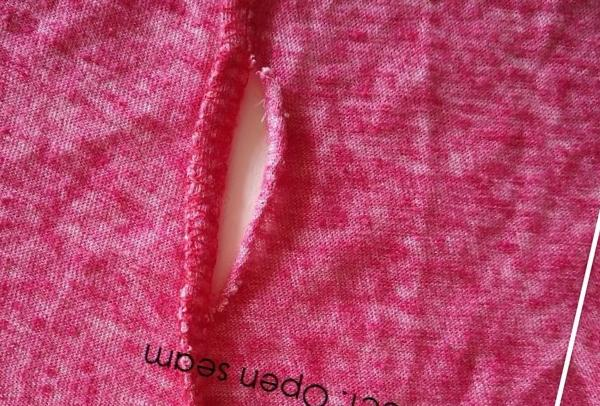hole: (205, 60, 285, 325)
